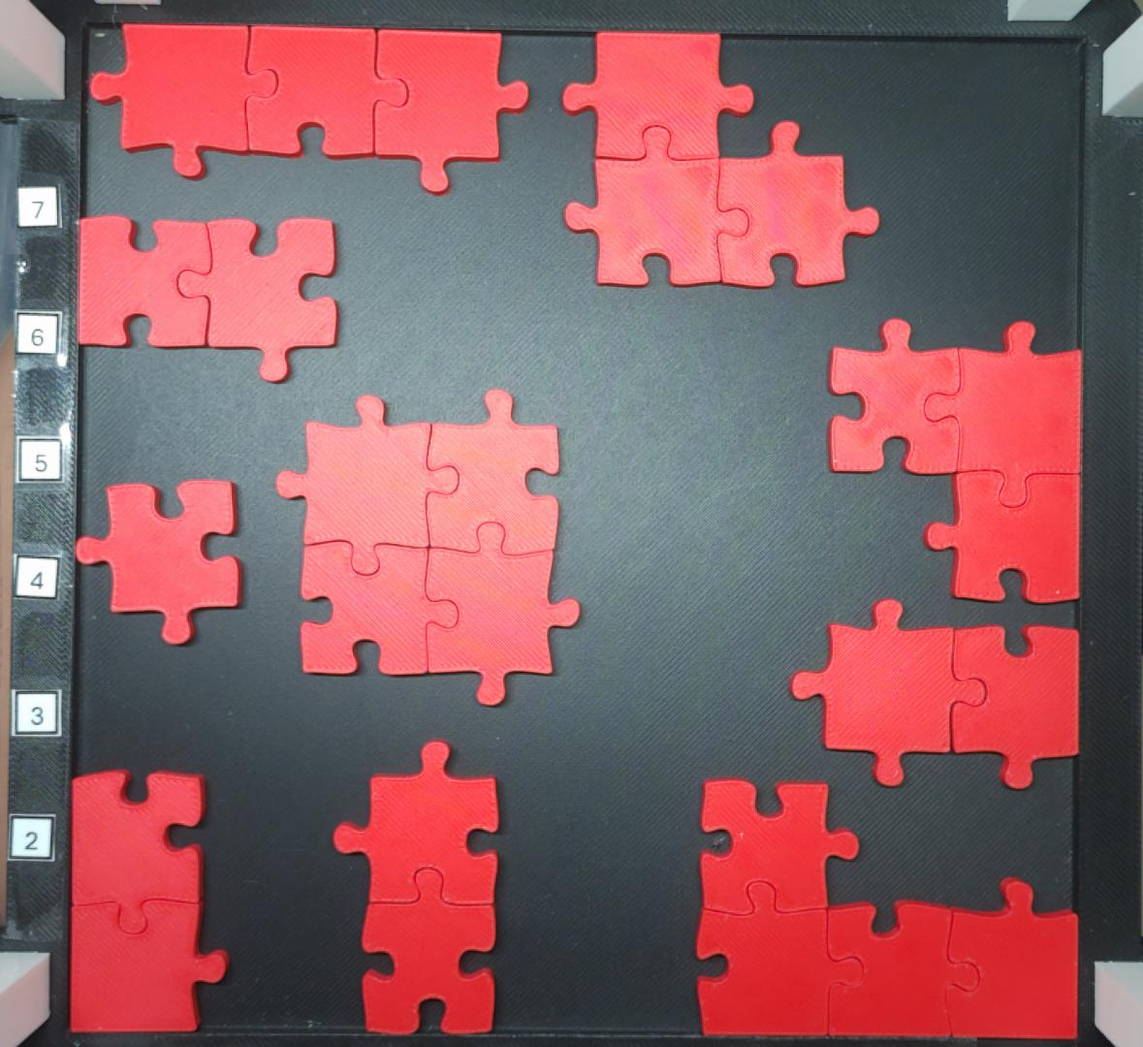p_1: (72, 477, 245, 648)
p_2: (789, 597, 1084, 790), (330, 738, 501, 1038), (76, 213, 340, 384), (66, 768, 231, 1033)
p_3: (558, 29, 882, 290), (87, 20, 533, 200), (825, 317, 1083, 606)
p_4: (692, 776, 1080, 1043), (273, 387, 583, 709)
